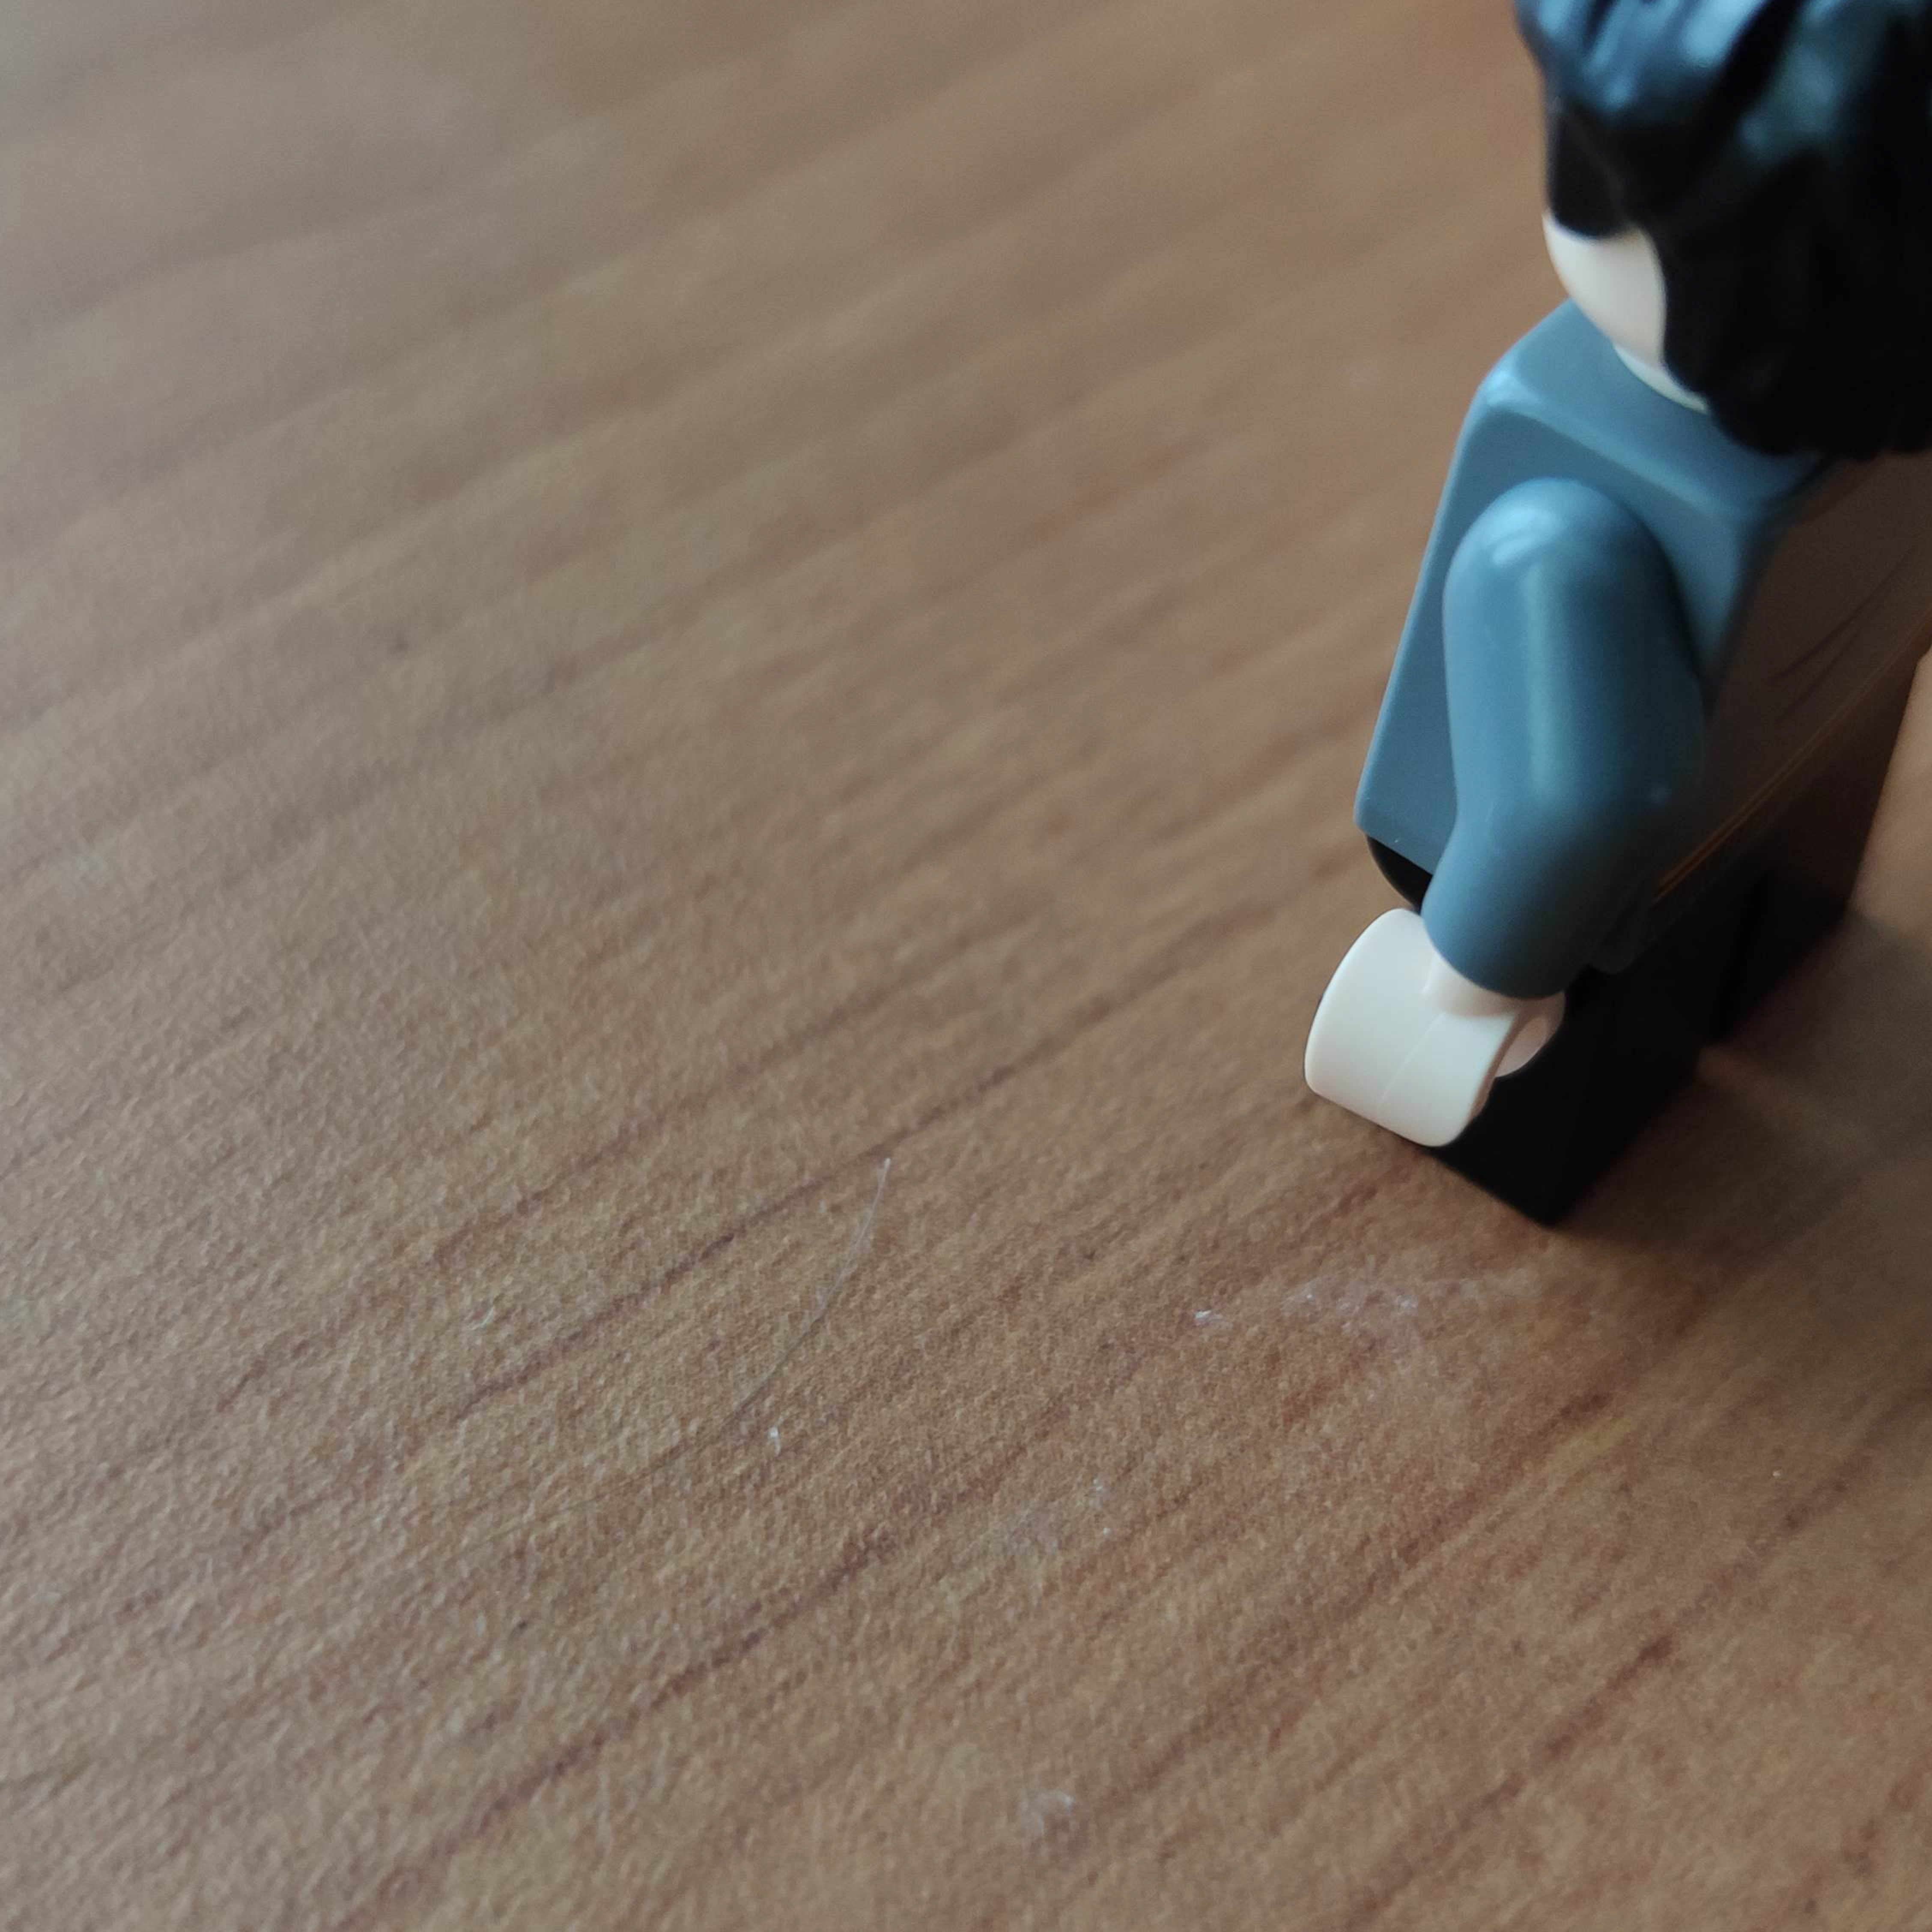lego: (1297, 0, 1925, 1235)
